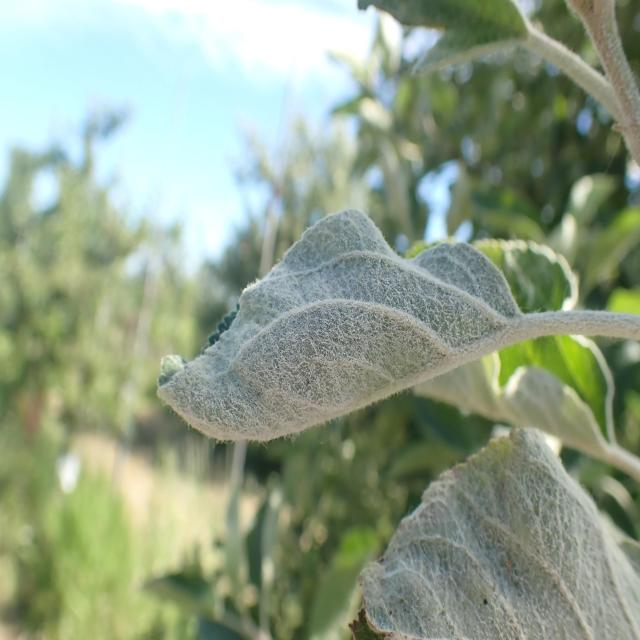Powdery_mildew: (152, 191, 622, 447), (334, 427, 640, 636), (334, 0, 578, 127)
